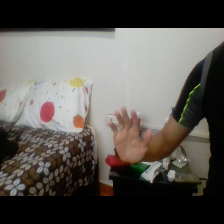left: (105, 102, 158, 165)
